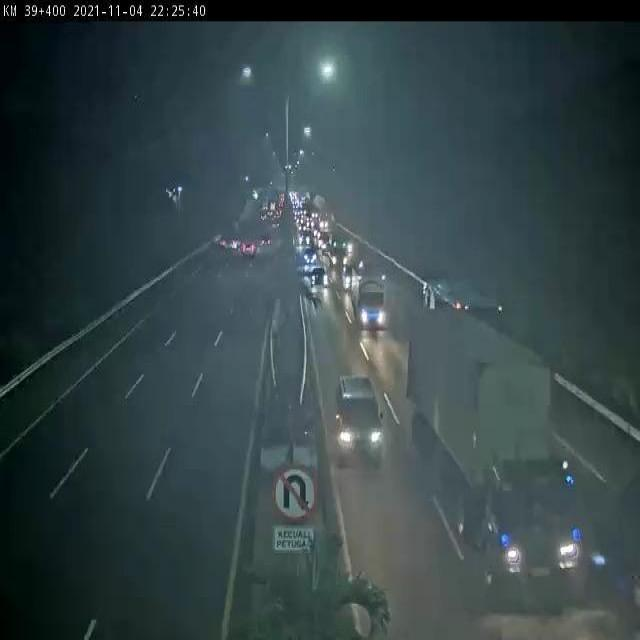car: (333, 378, 386, 470), (238, 239, 258, 265), (311, 265, 329, 292)
truck-m-: (345, 271, 392, 333)
truck-xl-: (406, 308, 579, 597)
